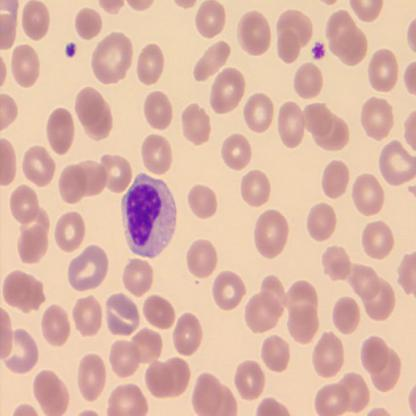Metamyelocyte: (119, 170, 178, 264)
